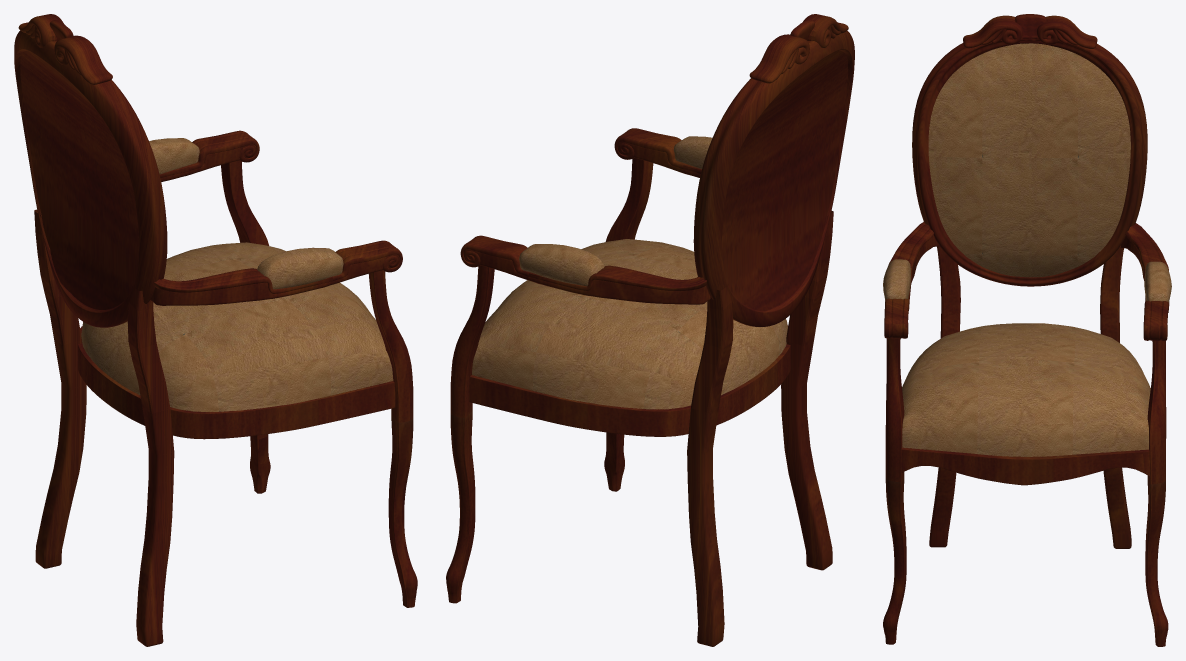
The model's file is chair.fbx.
3 views of the same model, side by side, from view 1: azimuth 30°, elevation 25°; view 2: azimuth 150°, elevation 25°; view 3: azimuth 270°, elevation 25° (orthographic). The views are drawn at different scales.
Parts seen in each view (by area): view 1: Arch33_09_obj_000, Arch33_09_obj_002, Arch33_09_obj_001; view 2: Arch33_09_obj_000, Arch33_09_obj_002, Arch33_09_obj_001; view 3: Arch33_09_obj_002, Arch33_09_obj_000, Arch33_09_obj_001.
Boxes of the visible parts, x1,y1,x2,y2 form: Arch33_09_obj_000: (14,14,174,646); Arch33_09_obj_002: (81,138,393,411); Arch33_09_obj_001: (78,130,417,607); Arch33_09_obj_000: (687,14,854,646); Arch33_09_obj_002: (472,136,787,409); Arch33_09_obj_001: (446,128,790,603); Arch33_09_obj_002: (883,43,1171,456); Arch33_09_obj_000: (912,14,1147,548); Arch33_09_obj_001: (883,222,1169,646).
Size of the model in its own units: 65.25 by 118 by 59.94.
2 materials, 2 textured.
